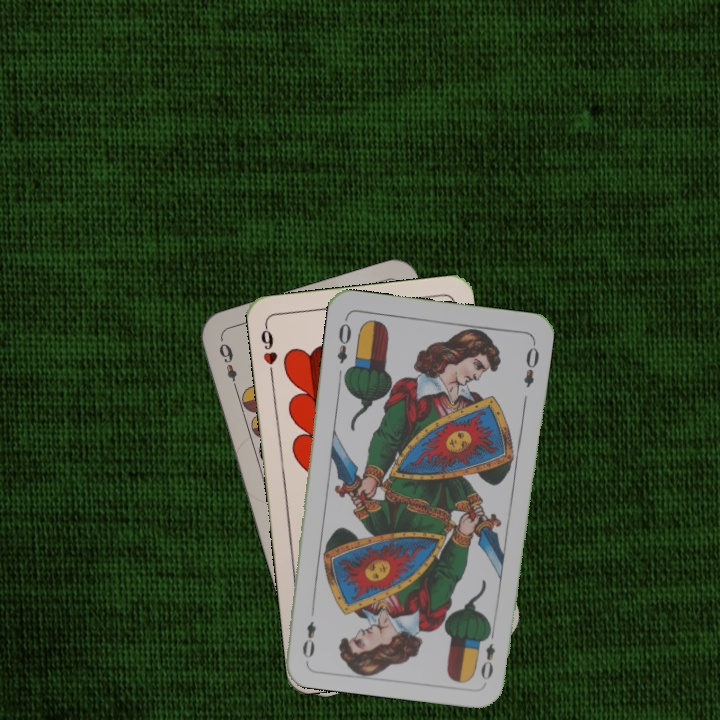E9: (215, 339, 241, 394)
EO: (477, 624, 498, 683), (332, 314, 354, 366)
H9: (256, 320, 280, 380)
